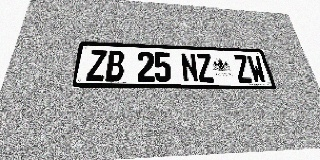2: (138, 51, 155, 82)
5: (154, 52, 172, 82)
B: (105, 50, 125, 81)
N: (180, 53, 199, 82)
W: (246, 55, 268, 83)
Z: (86, 50, 107, 81), (232, 55, 253, 83), (195, 54, 215, 82)
